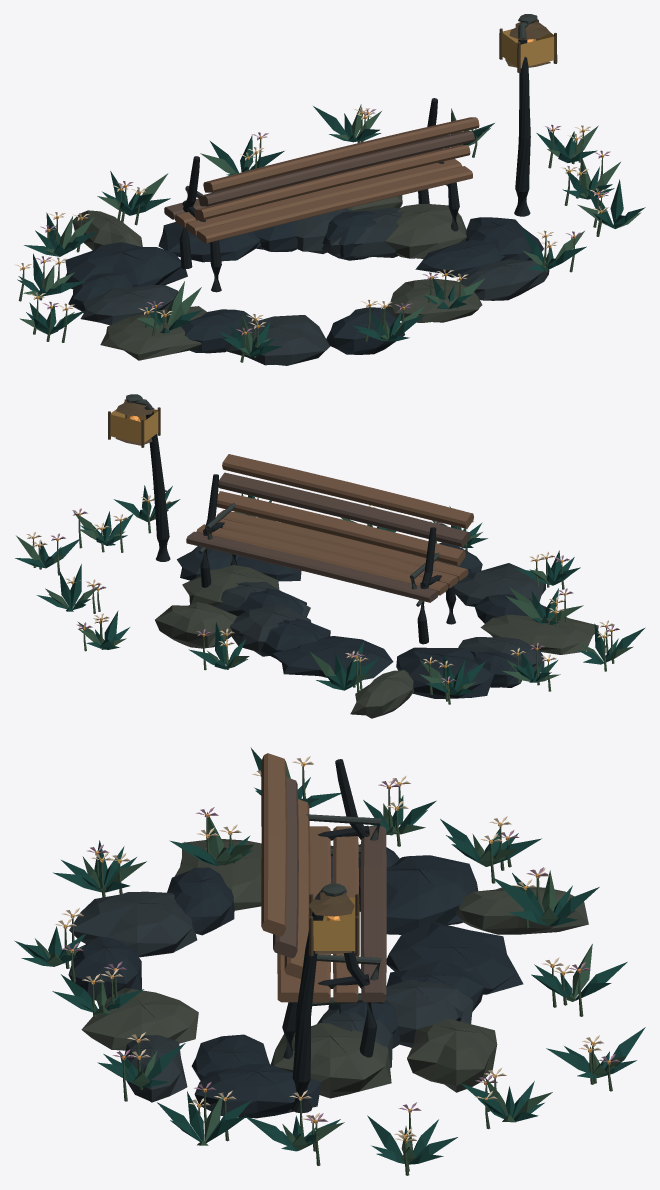
The model's file is moonlit-lookout.obj.
3 views of the same model, one above another, from view 1: azimuth 30°, elevation 25°; view 2: azimuth 150°, elevation 25°; view 3: azimuth 270°, elevation 25° (orthographic). The views are drawn at different scales.
Parts seen in each view (by area): view 1: StoneSlate, WoodWarm, StoneBlue, StoneLichen, LeafDeep, LeafSage, IronBlue, WoodOld, ReedStem, FlowerCream, LanternGlass, LanternMetal (+1 smaller); view 2: WoodWarm, StoneSlate, StoneLichen, LeafDeep, WoodOld, StoneBlue, IronBlue, LeafSage, ReedStem, LanternGlass, FlowerCream, LanternMetal (+2 smaller); view 3: StoneSlate, StoneLichen, LeafDeep, StoneBlue, WoodWarm, WoodOld, LeafSage, IronBlue, ReedStem, FlowerCream, IronHighlight, LanternGlass (+3 smaller).
Boxes of the visible parts, x1,y1,x2,y2 form: StoneSlate: (65,211,543,354); WoodWarm: (175,117,479,243); StoneBlue: (80,207,549,365); StoneLichen: (72,195,482,360); LeafDeep: (17,106,645,356); LeafSage: (19,104,641,356); IronBlue: (179,38,530,292); WoodOld: (164,131,474,219); ReedStem: (18,114,602,362); FlowerCream: (14,107,608,328); LanternGlass: (502,29,554,68); LanternMetal: (499,19,557,72); WoodWarm: (196,454,473,595); StoneSlate: (177,542,546,698); StoneLichen: (155,565,598,718); LeafDeep: (15,485,645,695); WoodOld: (186,472,469,602); StoneBlue: (215,563,545,672); IronBlue: (146,408,456,644); LeafSage: (16,491,633,691); ReedStem: (32,493,614,704); LanternGlass: (110,409,158,443); FlowerCream: (26,495,614,667); LanternMetal: (108,399,160,447); StoneSlate: (68,844,523,1118); StoneLichen: (81,839,588,1098); LeafDeep: (14,747,645,1164); StoneBlue: (69,845,473,1102); WoodWarm: (261,753,358,1002); WoodOld: (273,777,386,1002); LeafSage: (35,761,626,1163); IronBlue: (282,759,377,1113); ReedStem: (64,766,612,1175); FlowerCream: (54,756,603,1142); IronHighlight: (305,814,383,1006); LanternGlass: (313,897,355,950).
Size of the model in its own units: 9.67 by 3.07 by 6.58.
